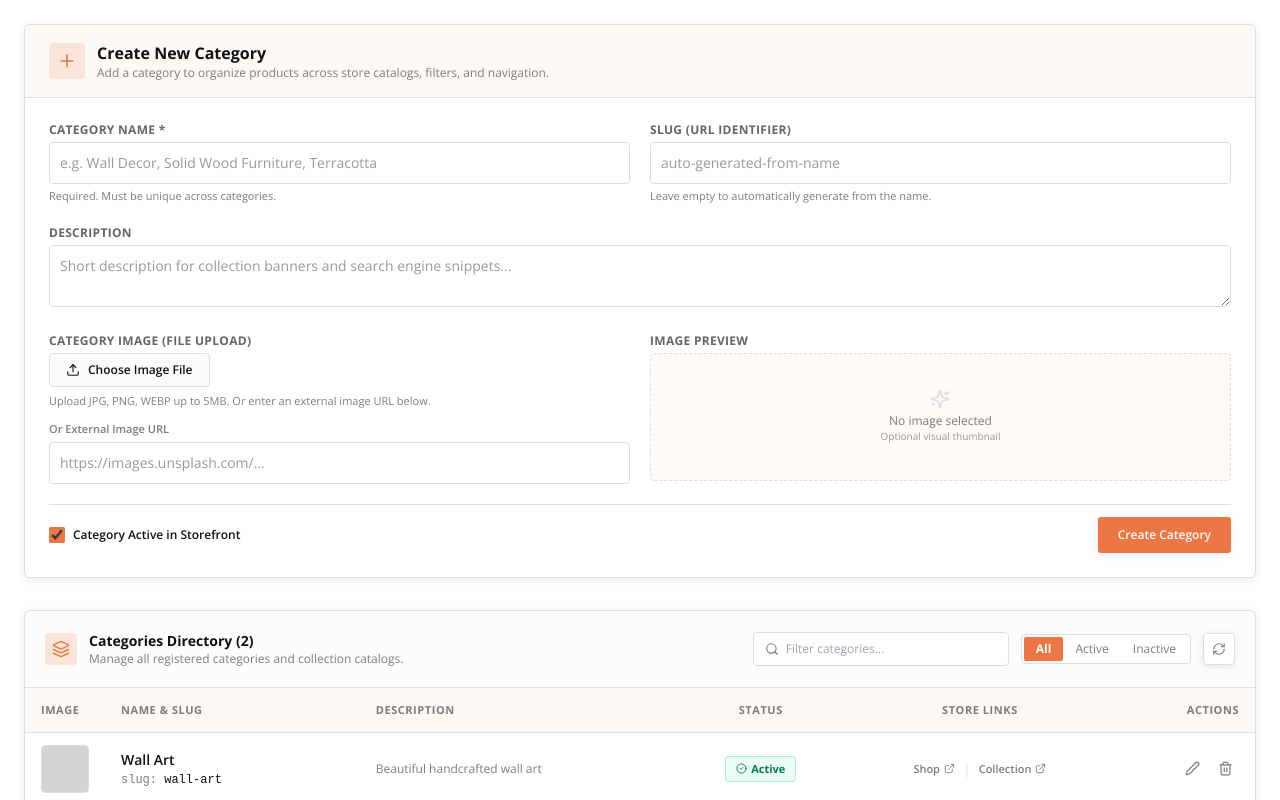
Test case: CategoriesTable Admin Component › filters categories by search input
Expected: the text "Wall Art" is shown, [121, 750, 175, 768]
Type "Pottery" into the field with placeholder "Filter categories...".
click(881, 648); type("Pottery")  # box [753, 632, 1009, 666]
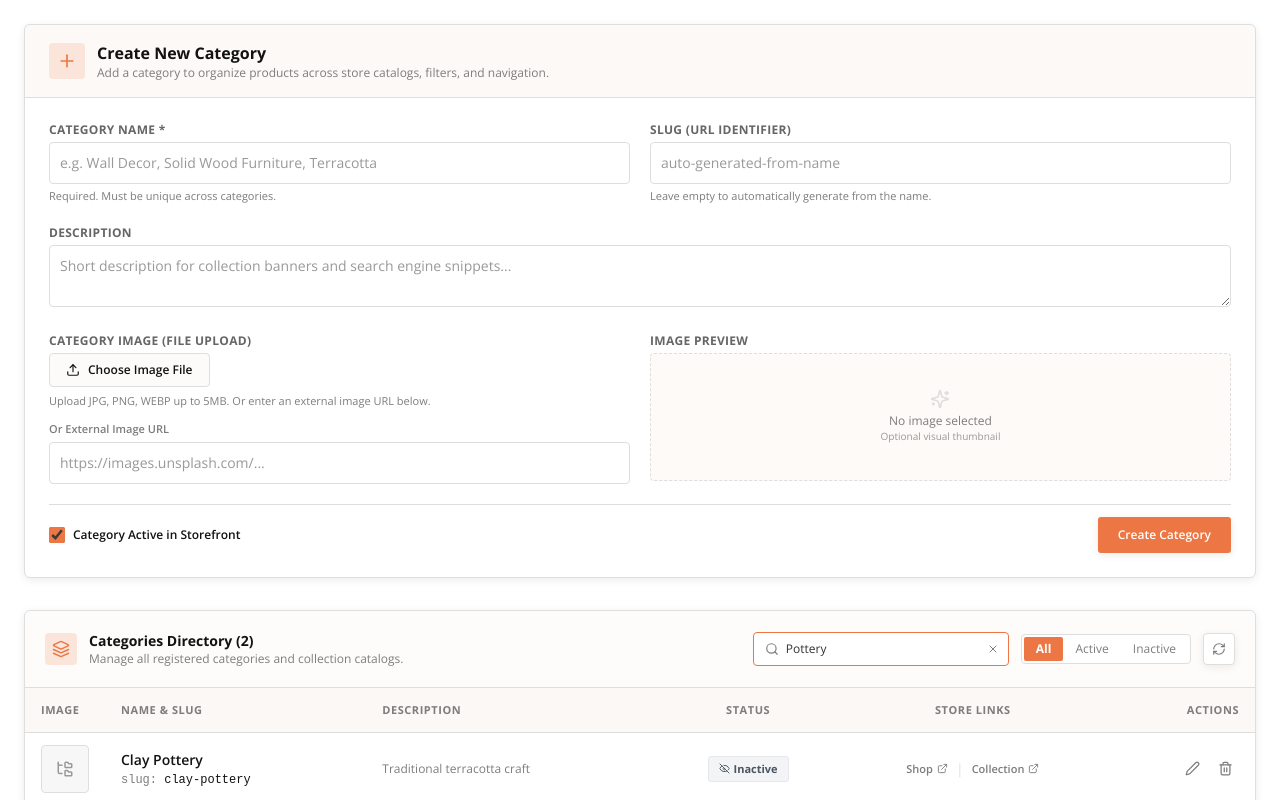
Expected: the text "Clay Pottery" is shown, [121, 750, 203, 768]
Expected: the text "Wall Art" is gone
